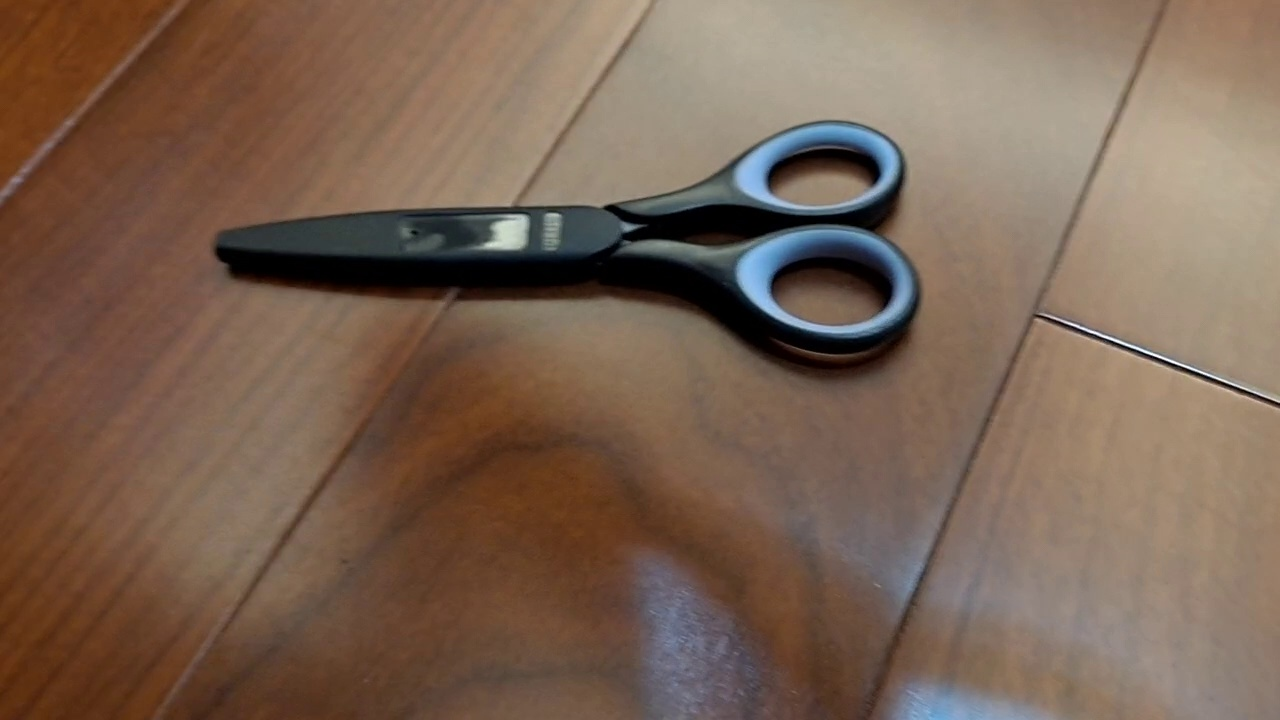scissors: (210, 118, 923, 357)
